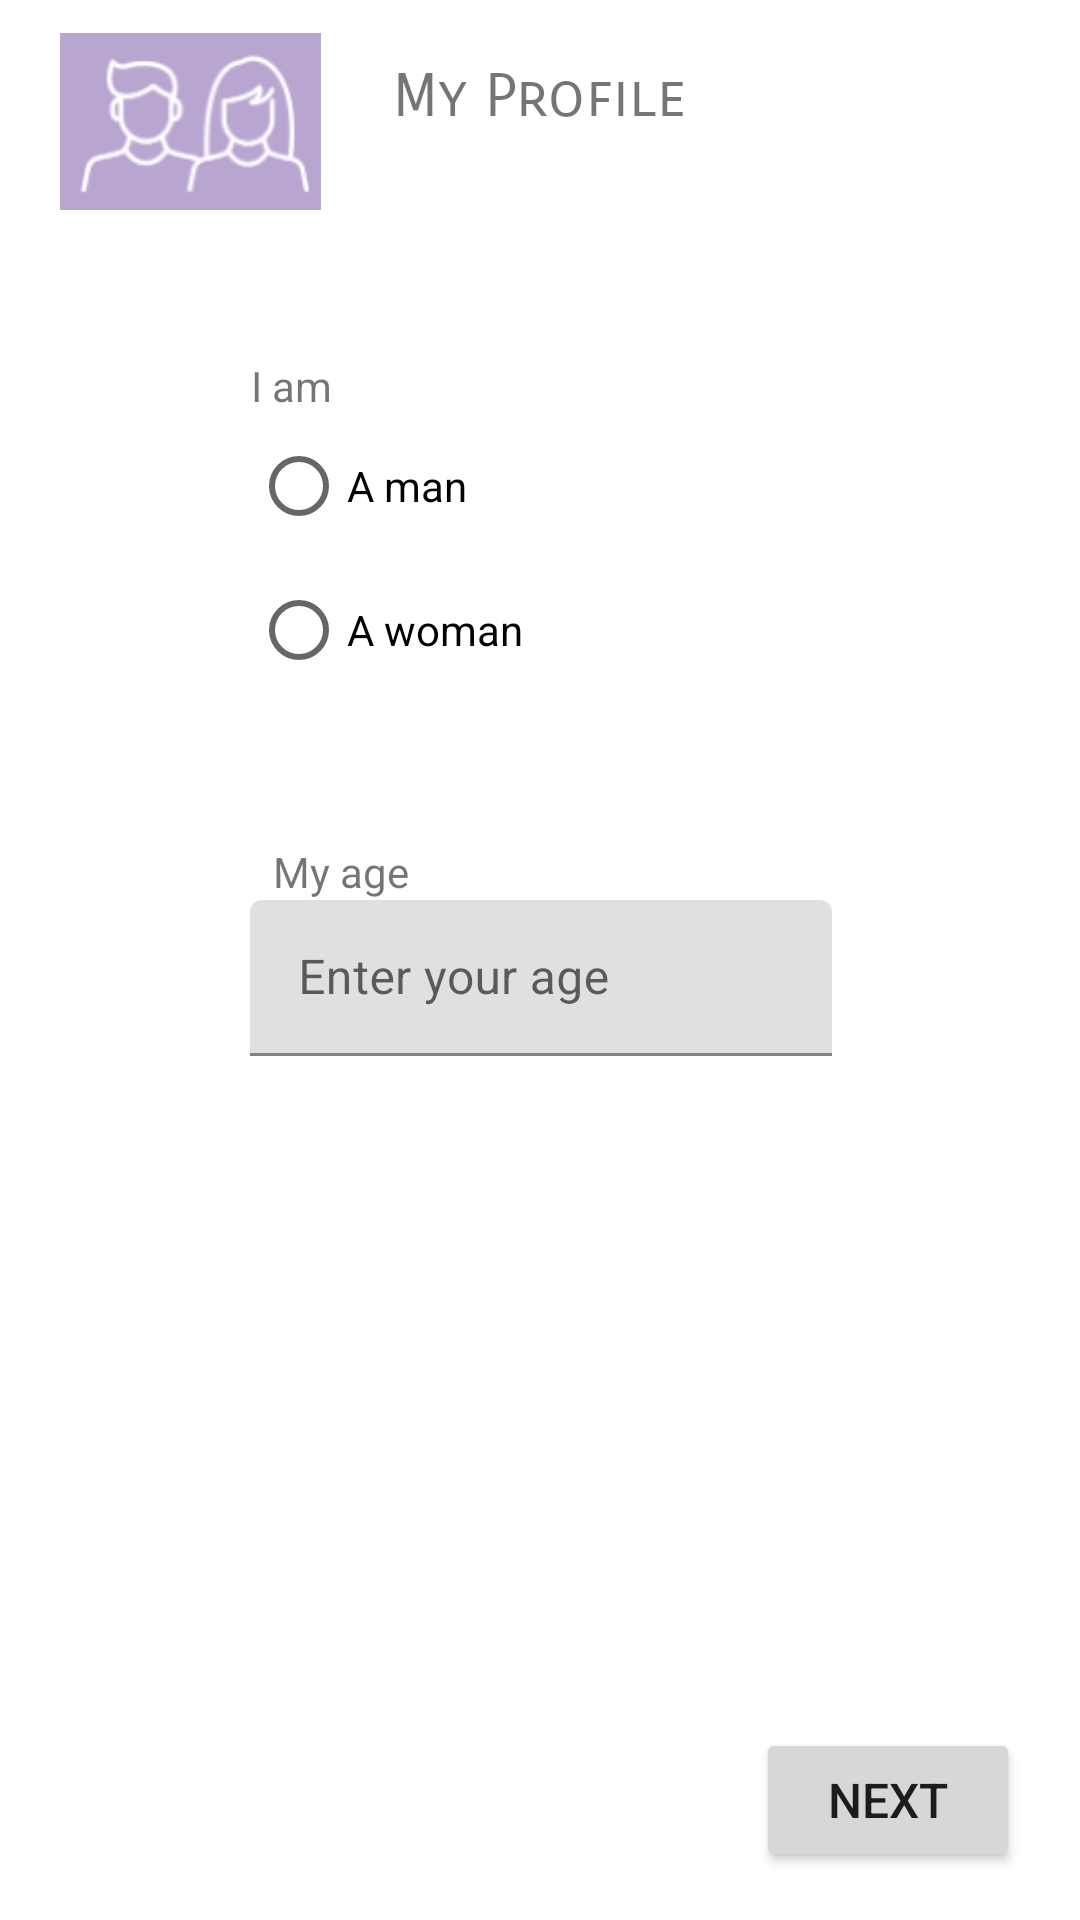

Named icons in this screenshot (1080px x 1920px) and their bounding boxes, (left=x1, top=y1, right=x2, bottom=y2):
monprofil: (left=60, top=33, right=321, bottom=210)
